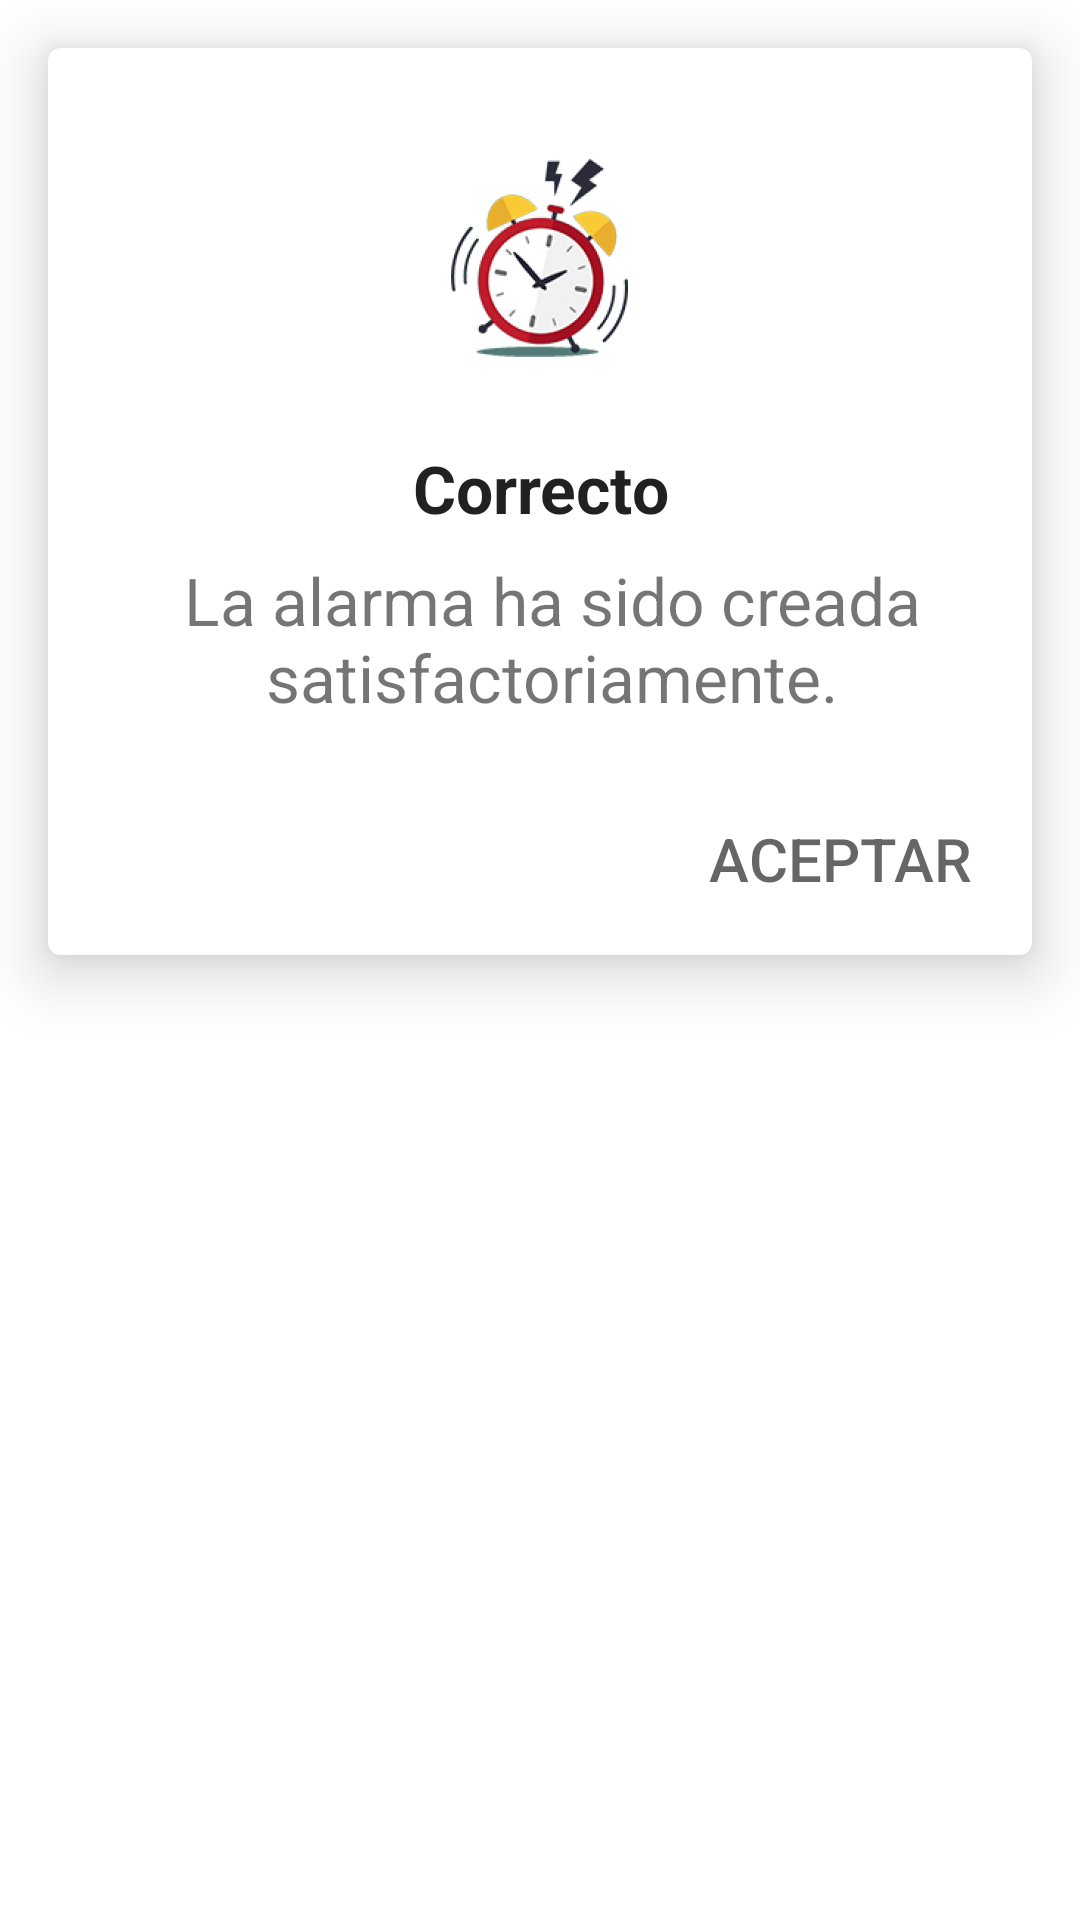

Locate icon controls on the screen. Image size 1080w x 1920h, boxes as [x1,y1,x2,y2].
notification clock: [451,159,628,357]
